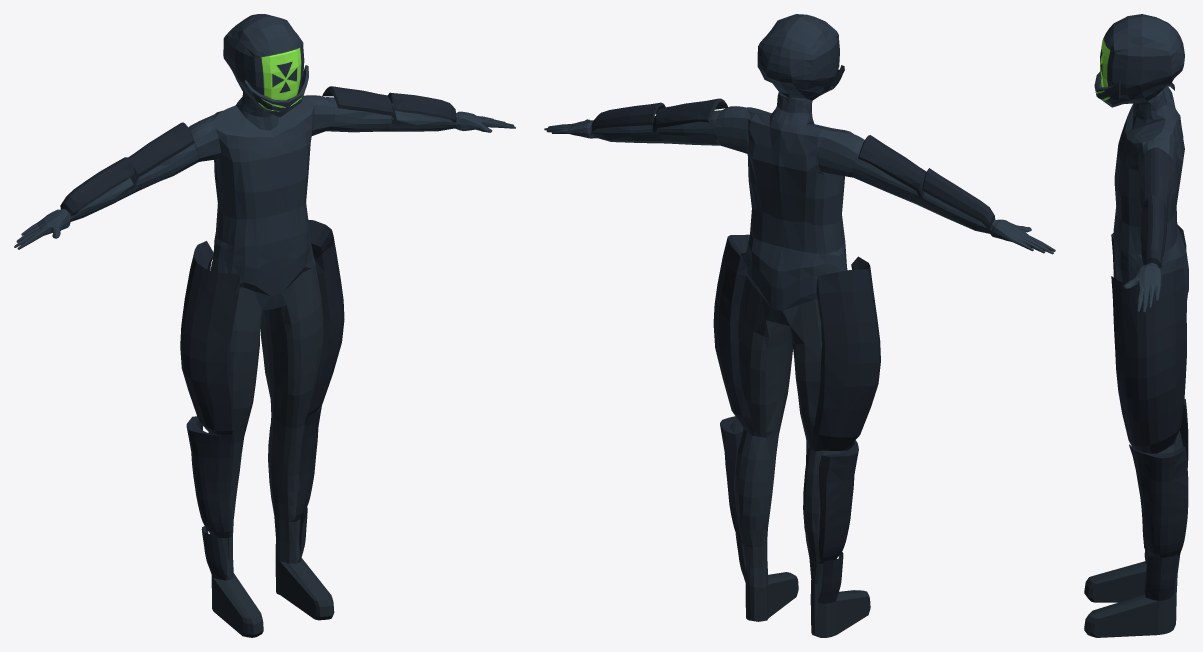
The model's file is Bastion.obj.
3 views of the same model, side by side, from view 1: azimuth 30°, elevation 25°; view 2: azimuth 150°, elevation 25°; view 3: azimuth 270°, elevation 25° (orthographic).
Parts seen in each view (by area): view 1: Cube.002; view 2: Cube.002; view 3: Cube.002.
Part boxes in pixels (x1,y1,x2,y2): Cube.002: [14, 14, 515, 637]; Cube.002: [544, 14, 1055, 637]; Cube.002: [1084, 14, 1188, 637].
Size of the model in its own units: 3.49 by 3.95 by 0.6255.
1 material, 1 textured.
